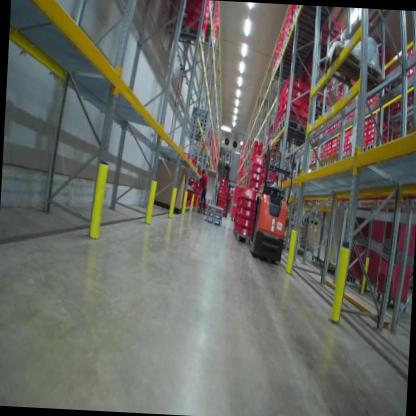pallet: (164, 22, 207, 46), (273, 125, 303, 148), (279, 117, 308, 139), (230, 229, 251, 248), (205, 202, 223, 216), (186, 128, 207, 140), (311, 99, 330, 111), (205, 216, 223, 227), (206, 210, 224, 220), (188, 128, 207, 137), (189, 124, 208, 132), (191, 115, 209, 123), (192, 111, 210, 119), (191, 121, 208, 128), (357, 145, 367, 156), (366, 140, 374, 152), (178, 206, 189, 214), (187, 205, 197, 213), (340, 153, 346, 161), (329, 157, 335, 165), (346, 151, 350, 159), (323, 159, 327, 167)
pallet_truck: (245, 143, 299, 266)
small_load_carrier: (285, 73, 304, 90), (284, 85, 301, 100), (234, 220, 250, 235), (283, 96, 301, 108), (282, 103, 301, 114), (237, 205, 250, 221), (240, 186, 255, 199), (236, 211, 249, 226), (282, 110, 299, 121), (239, 195, 254, 207), (235, 194, 240, 206), (233, 211, 238, 221), (234, 205, 239, 212)
